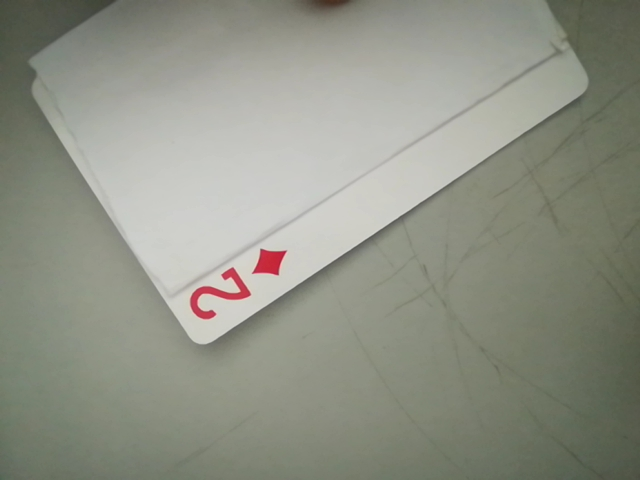fk 2: (178, 245, 294, 331)
